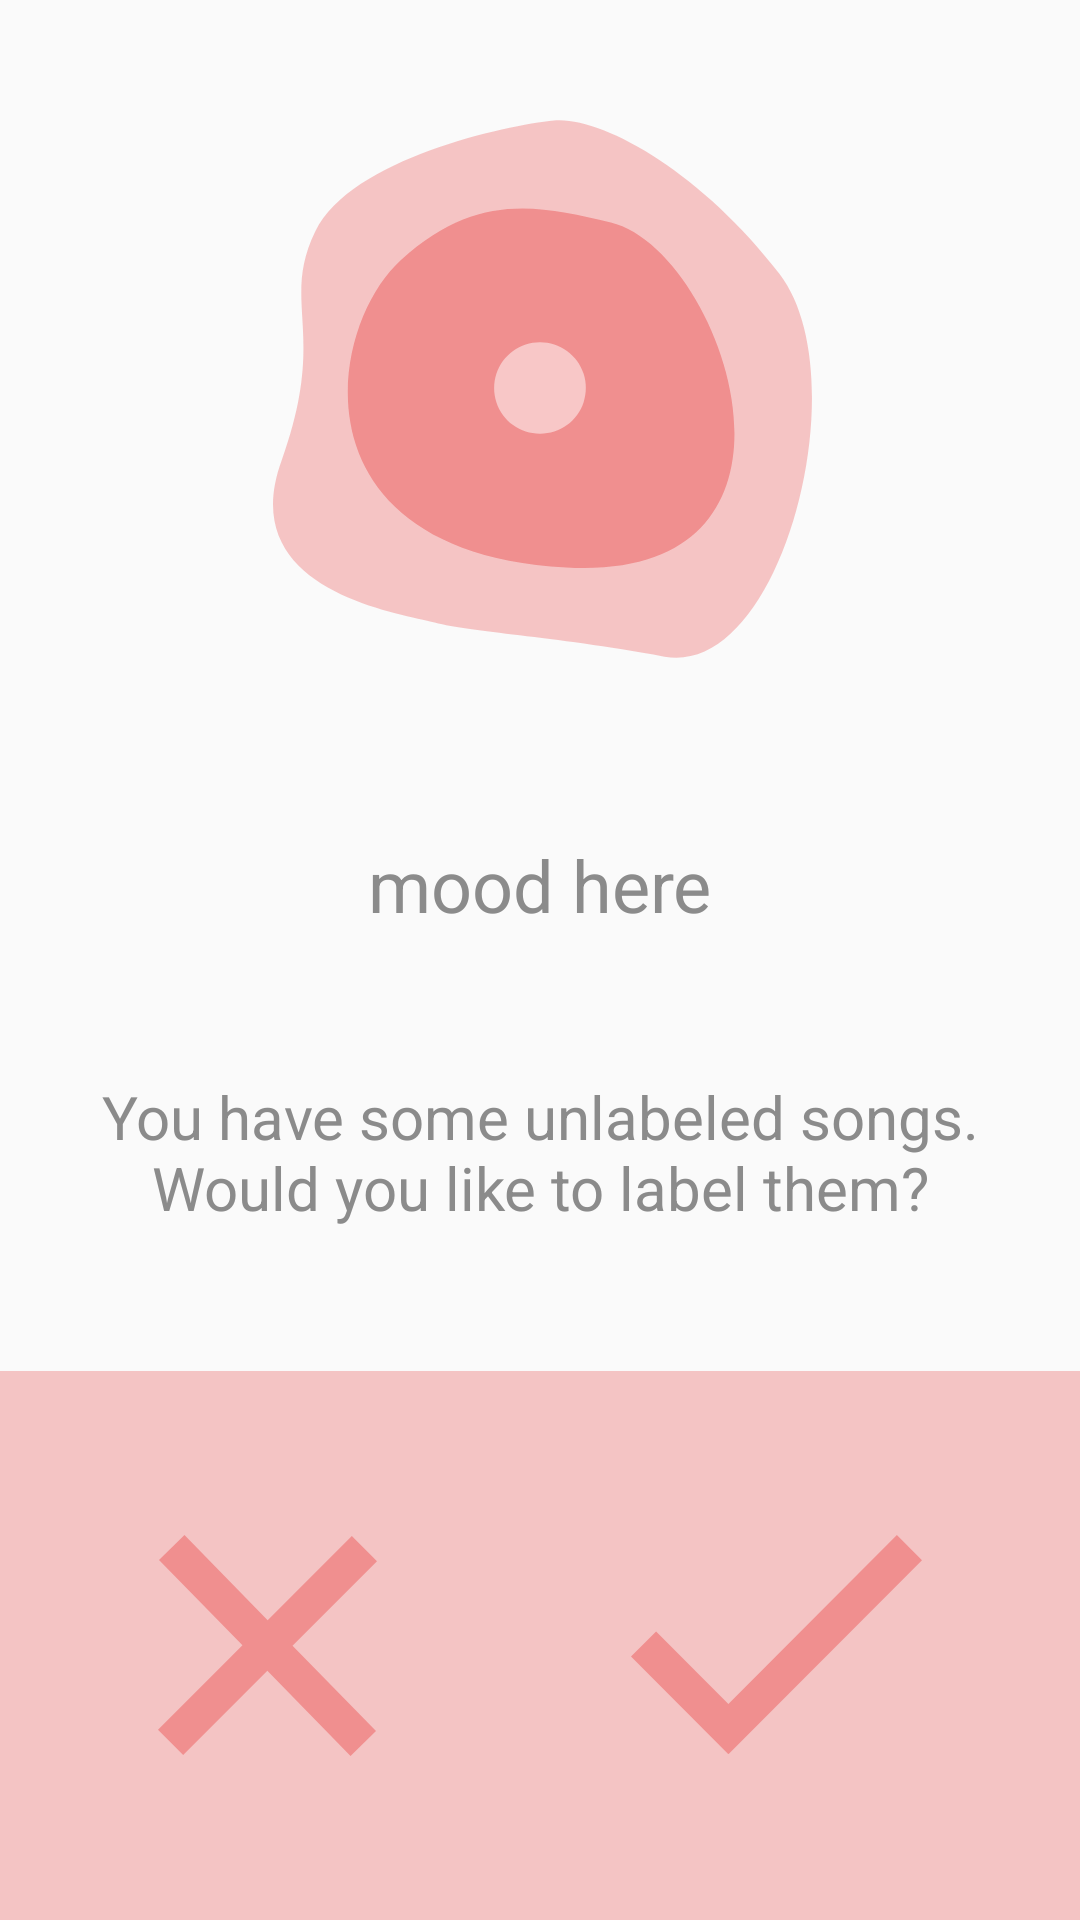

Screen size 1080 × 1920. Icon name, then its center in pixels as point (x, y):
cross: point (267, 1645)
tick: point (776, 1644)
